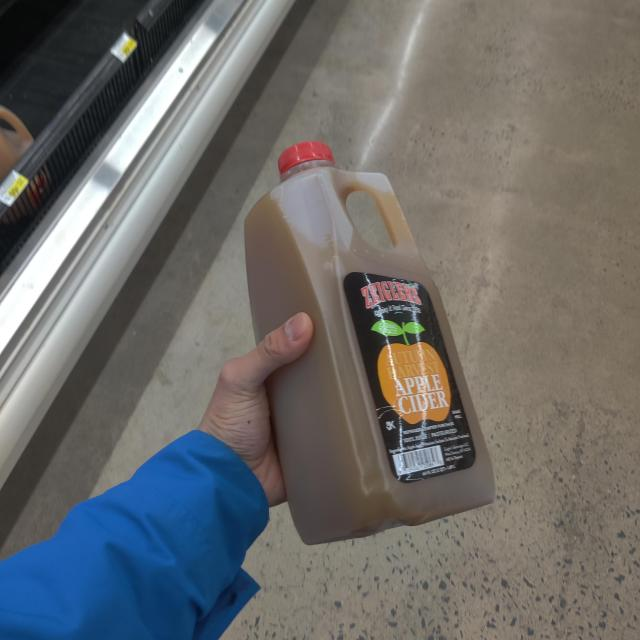Juice: (240, 134, 504, 544)
